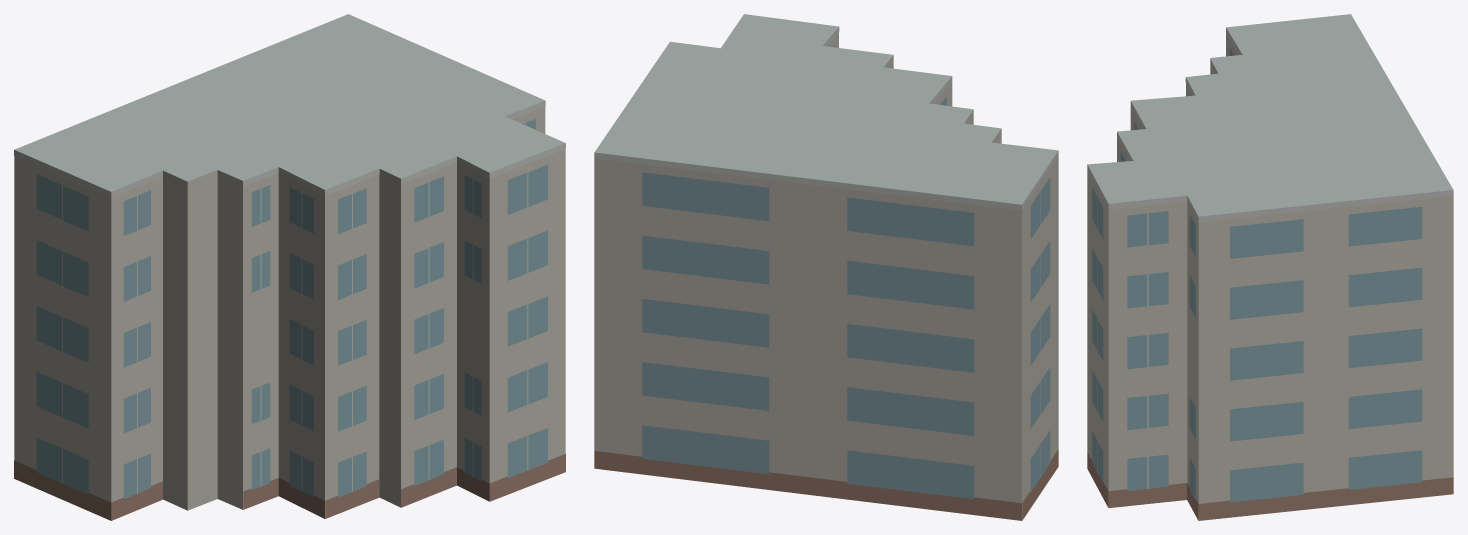
File: survey-upis-32602699.glb
3 renders of one model, left to right at view 1: azimuth 30°, elevation 25°; view 2: azimuth 150°, elevation 25°; view 3: azimuth 270°, elevation 25°, orthographic. The views are drawn at different scales.
Parts seen in each view (by area): view 1: survey-upis-32602699.tmp; view 2: survey-upis-32602699.tmp; view 3: survey-upis-32602699.tmp.
Boxes of the visible parts, x1,y1,x2,y2 form: survey-upis-32602699.tmp: [14, 14, 565, 520]; survey-upis-32602699.tmp: [594, 14, 1058, 520]; survey-upis-32602699.tmp: [1087, 14, 1453, 520].
Size of the model in its own units: 18.86 by 13.2 by 14.41.
